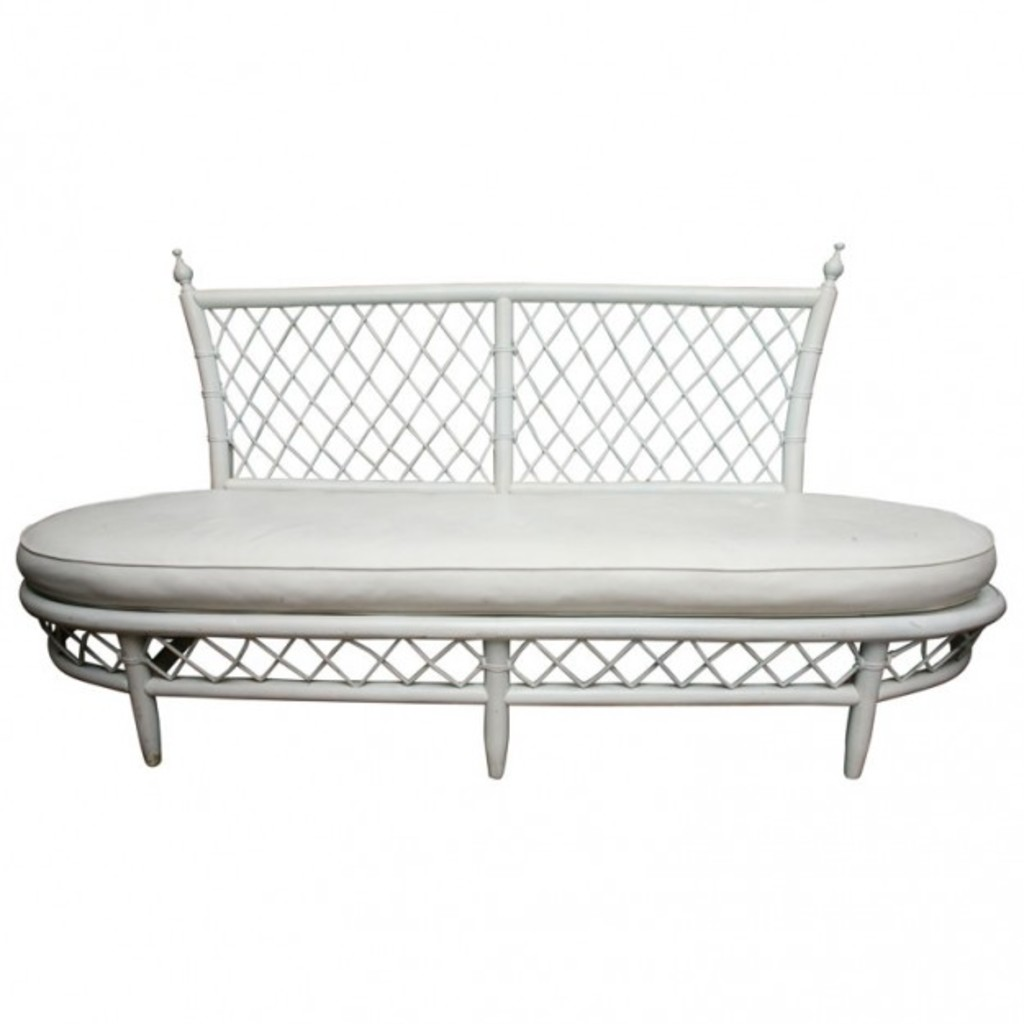Couch: (11, 242, 1011, 780)
